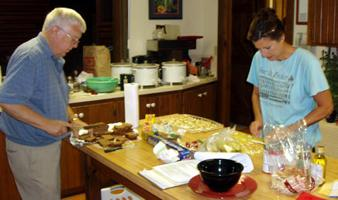person: (1, 7, 91, 200)
